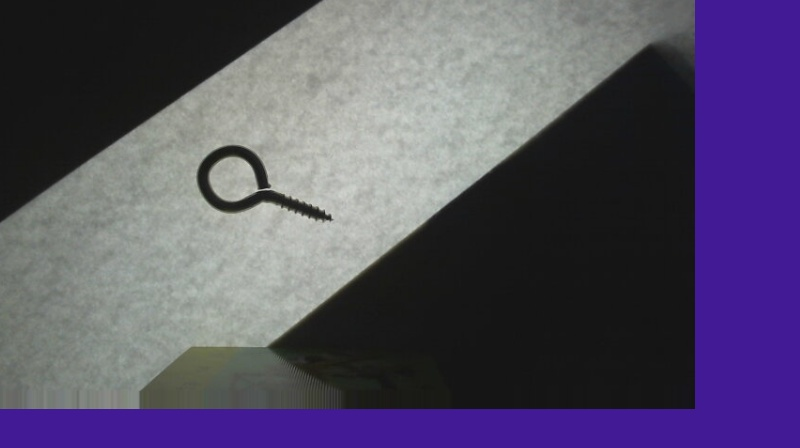O001: (193, 142, 336, 225)
